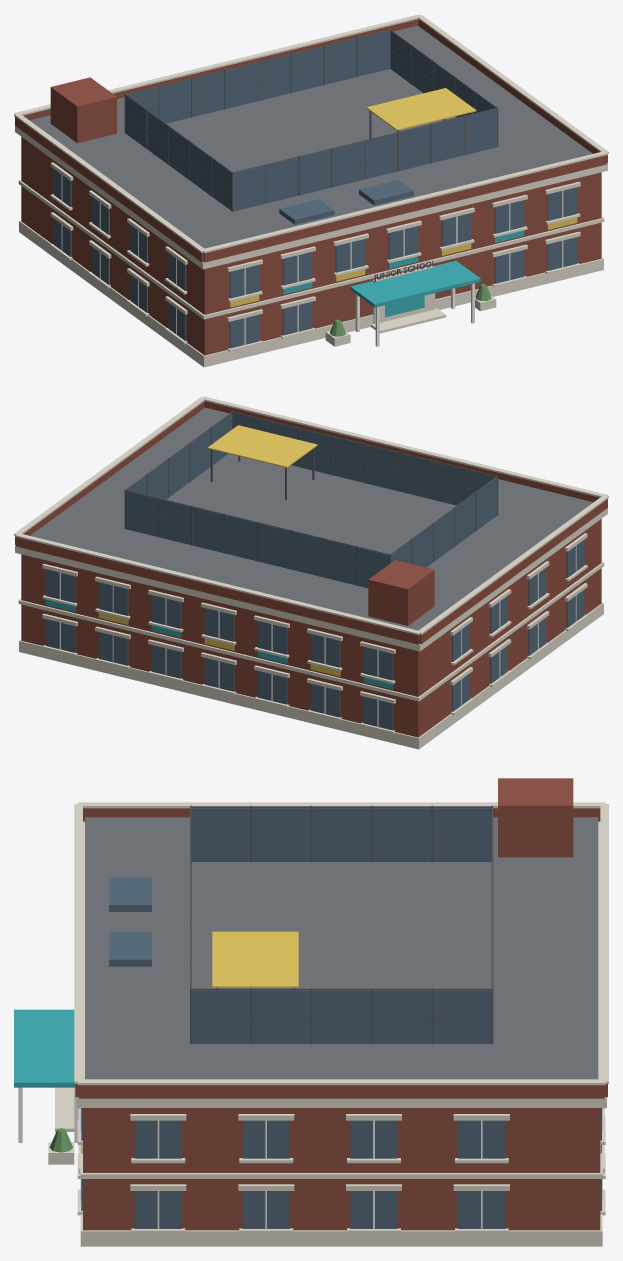
The model's file is birchwood_junior.glb.
3 views of the same model, one above another, from view 1: azimuth 30°, elevation 25°; view 2: azimuth 150°, elevation 25°; view 3: azimuth 270°, elevation 25° (orthographic). The views are drawn at different scales.
Visible parts, largest first — view 1: birchwood_junior_export; view 2: birchwood_junior_export; view 3: birchwood_junior_export.
Boxes of the visible parts, <box> form: birchwood_junior_export: <box>14,14,608,367</box>; birchwood_junior_export: <box>14,396,608,749</box>; birchwood_junior_export: <box>14,778,608,1246</box>.
Size of the model in its own units: 30.8 by 10.85 by 27.6.
